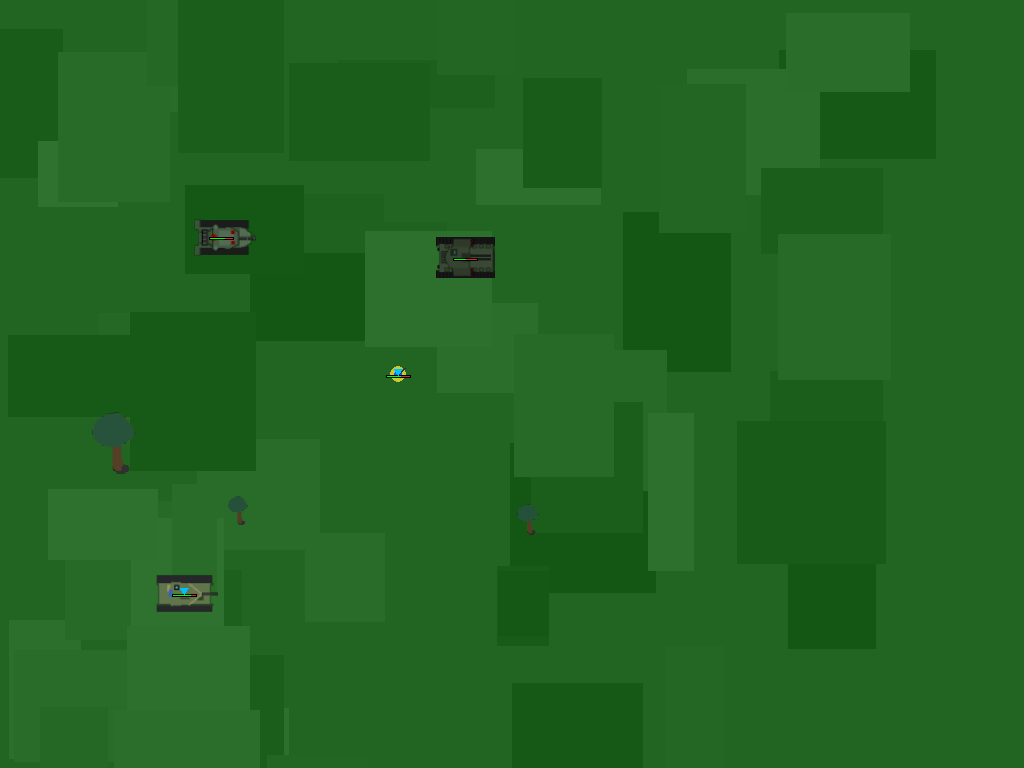Airfield: (154, 563, 213, 622)
Mi24: (440, 232, 489, 281)
Rifleman: (382, 358, 414, 390)
Shotgunner: (191, 206, 250, 265)
